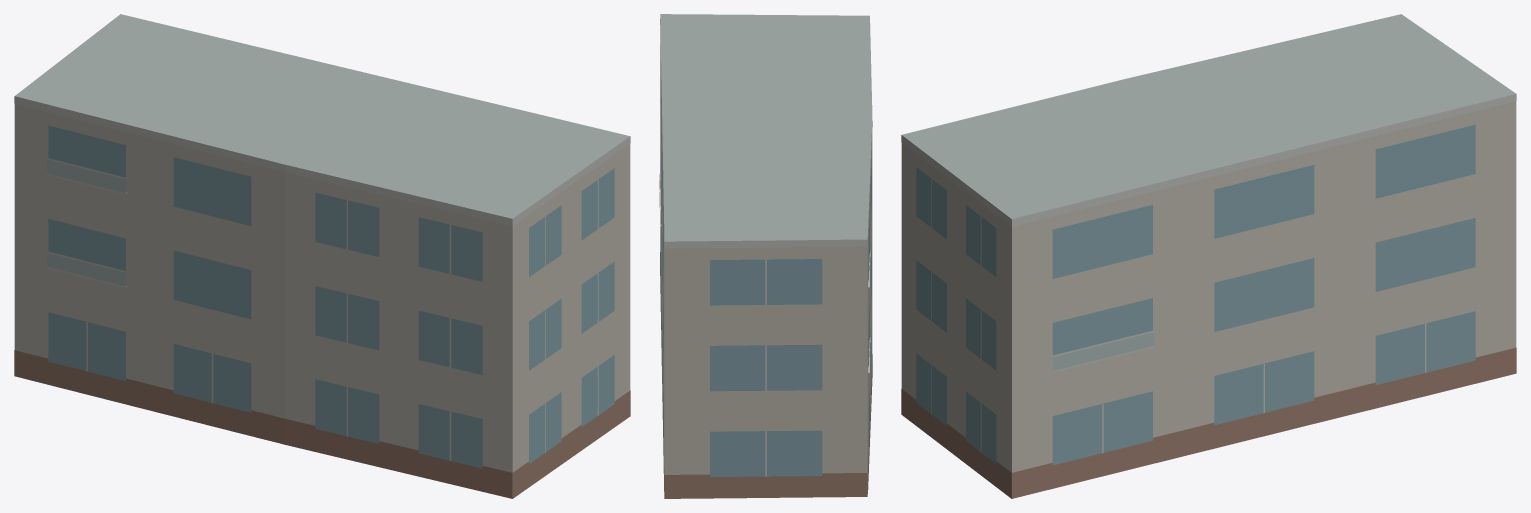
Rendered from survey-upis-32751854.glb.
3 views of the same model, side by side, from view 1: azimuth 30°, elevation 25°; view 2: azimuth 150°, elevation 25°; view 3: azimuth 270°, elevation 25° (orthographic). The views are drawn at different scales.
Parts seen in each view (by area): view 1: survey-upis-32751854.tmp; view 2: survey-upis-32751854.tmp; view 3: survey-upis-32751854.tmp.
Boxes of the visible parts, x1,y1,x2,y2 form: survey-upis-32751854.tmp: (14,14,630,498); survey-upis-32751854.tmp: (659,14,872,498); survey-upis-32751854.tmp: (901,14,1516,498).
Size of the model in its own units: 14.4 by 9.15 by 18.24.
